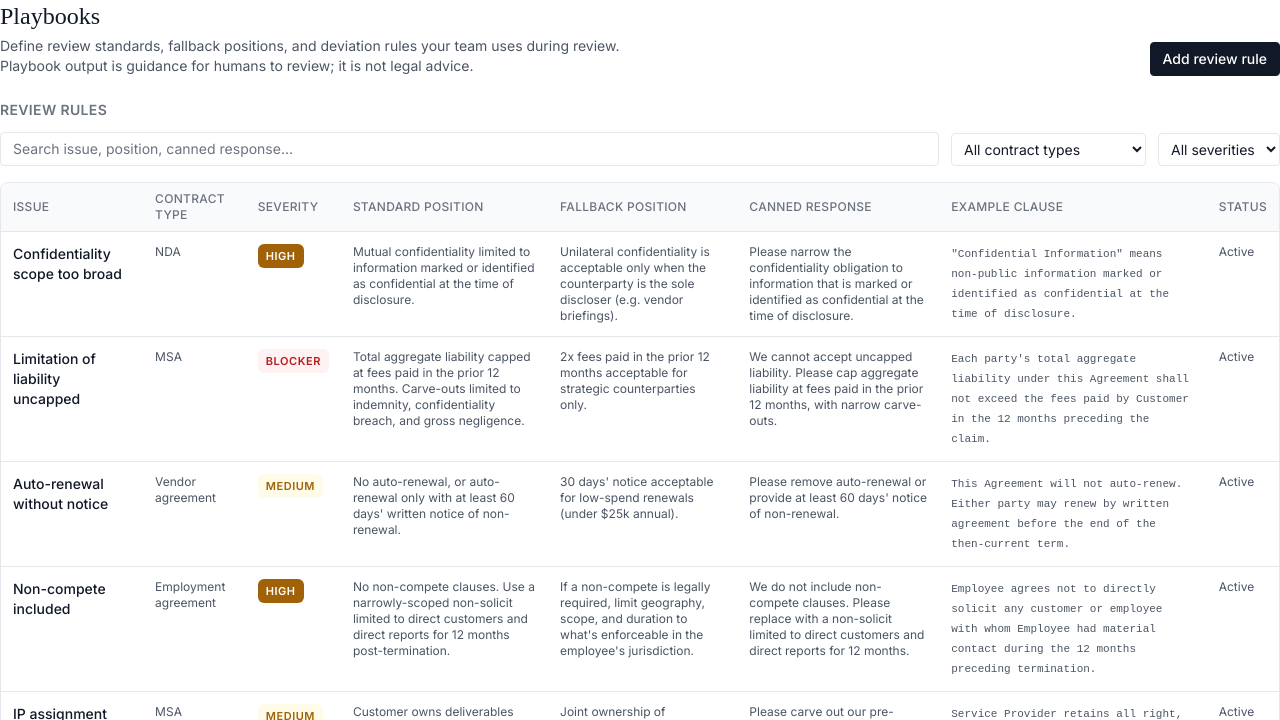
Test case: PlaybooksPage › Escape closes the editor modal without adding a rule
Click the button with test id "playbooks-add-rule".
click(1215, 59)  # box [1150, 42, 1279, 76]
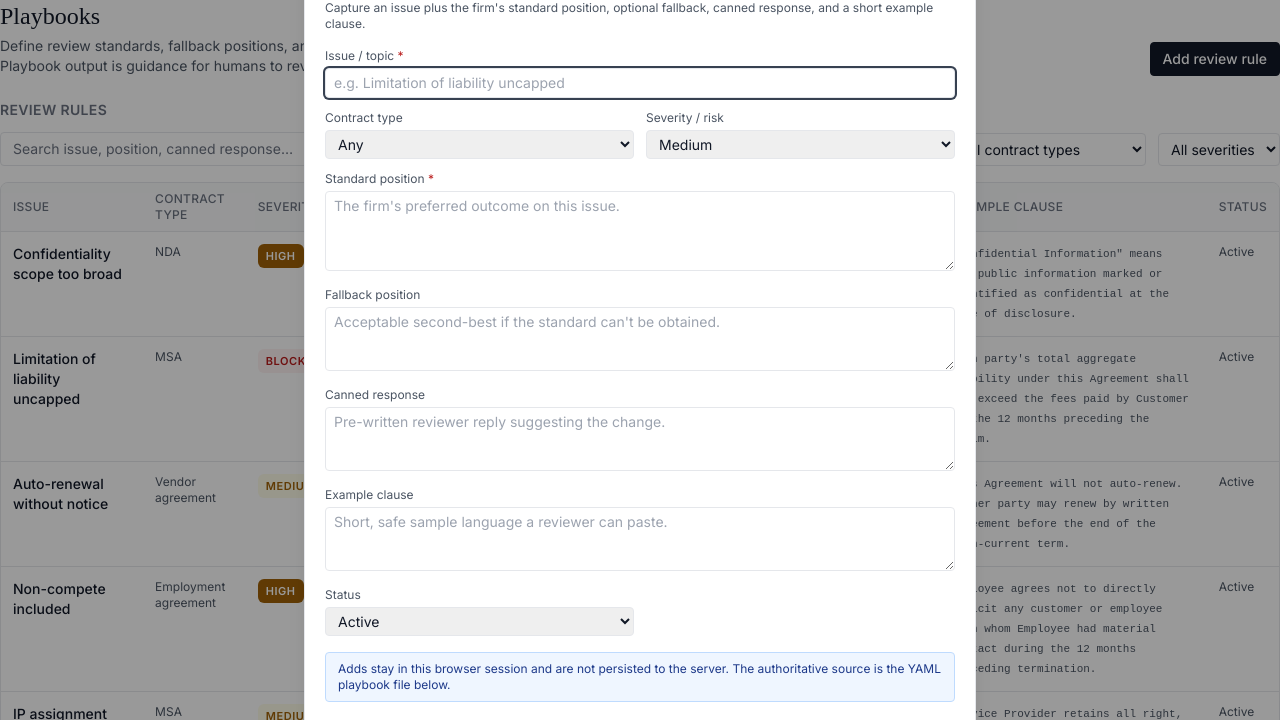
Check: the dialog with test id "review-rule-modal" is shown
Press Escape
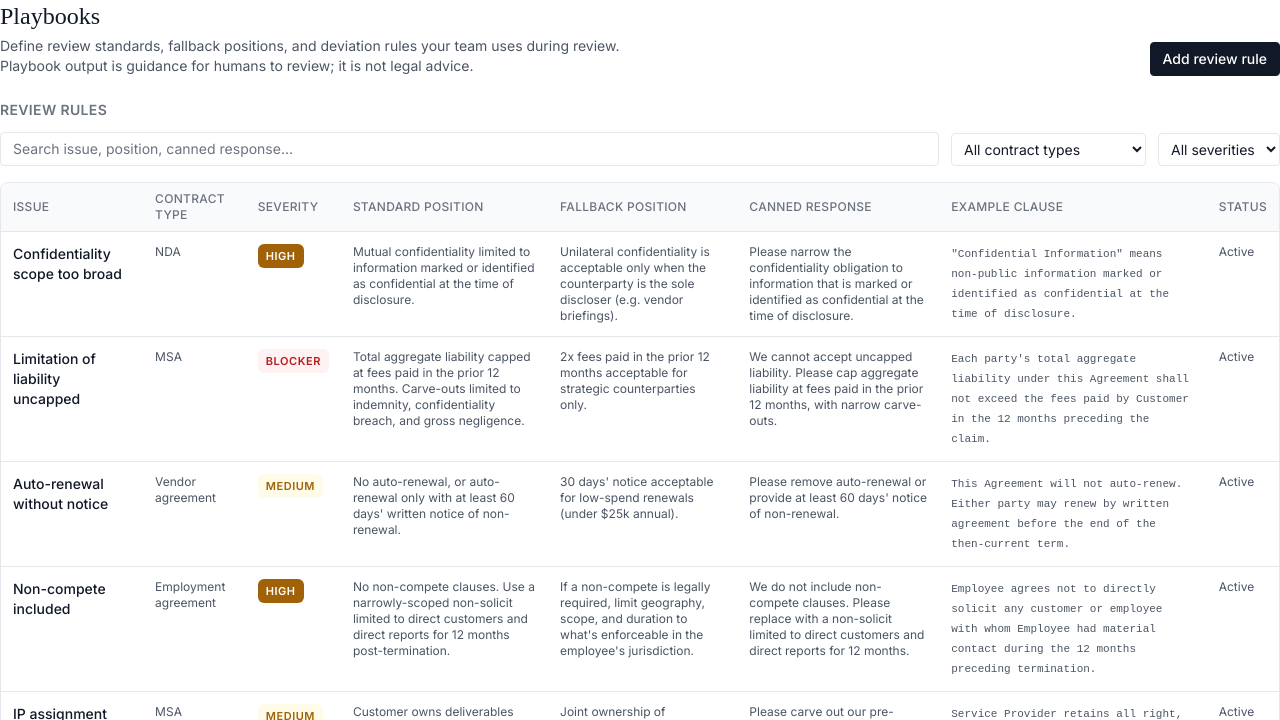
Check: the dialog with test id "review-rule-modal" is gone
